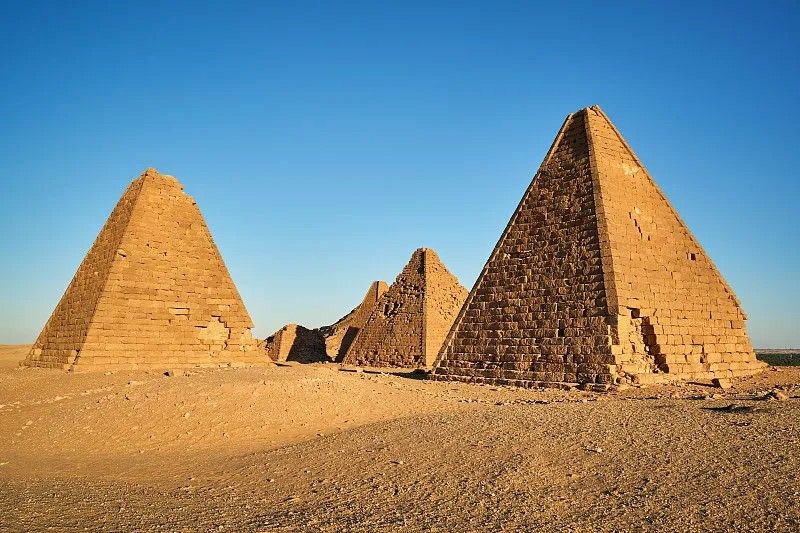Pyramid: (430, 105, 758, 391), (22, 168, 273, 372), (341, 248, 470, 377)
